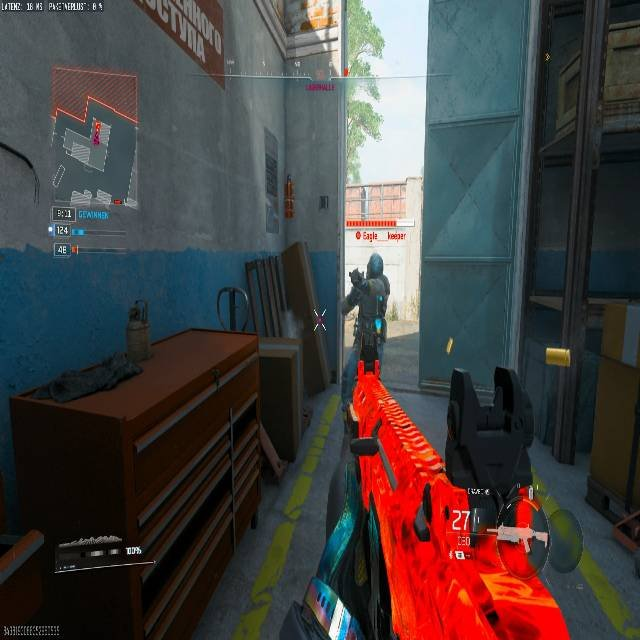head: (366, 252, 384, 276)
player: (344, 252, 390, 373)
